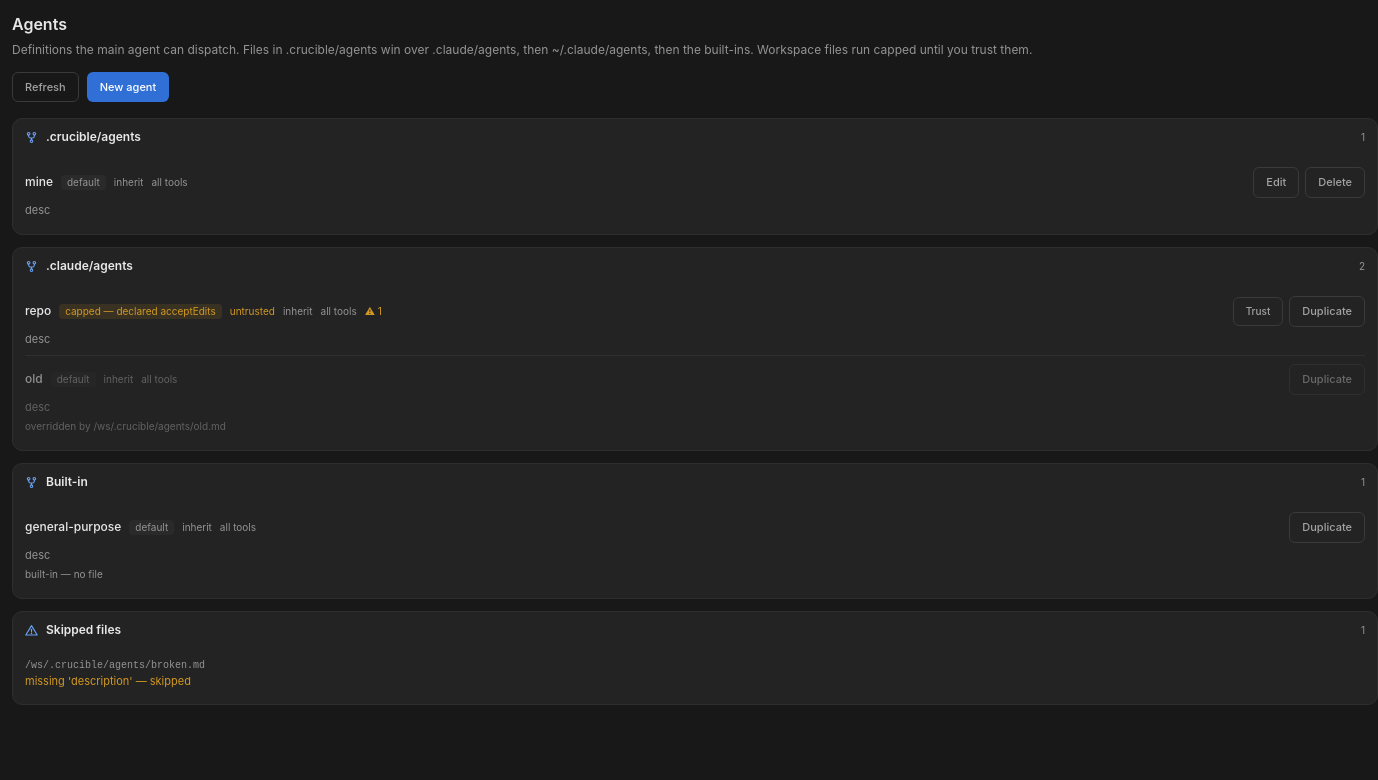
Test case: AgentsSection › expands warnings
Click the button named "1 warning on repo" at x=373, y=311, box [365,304,382,319]
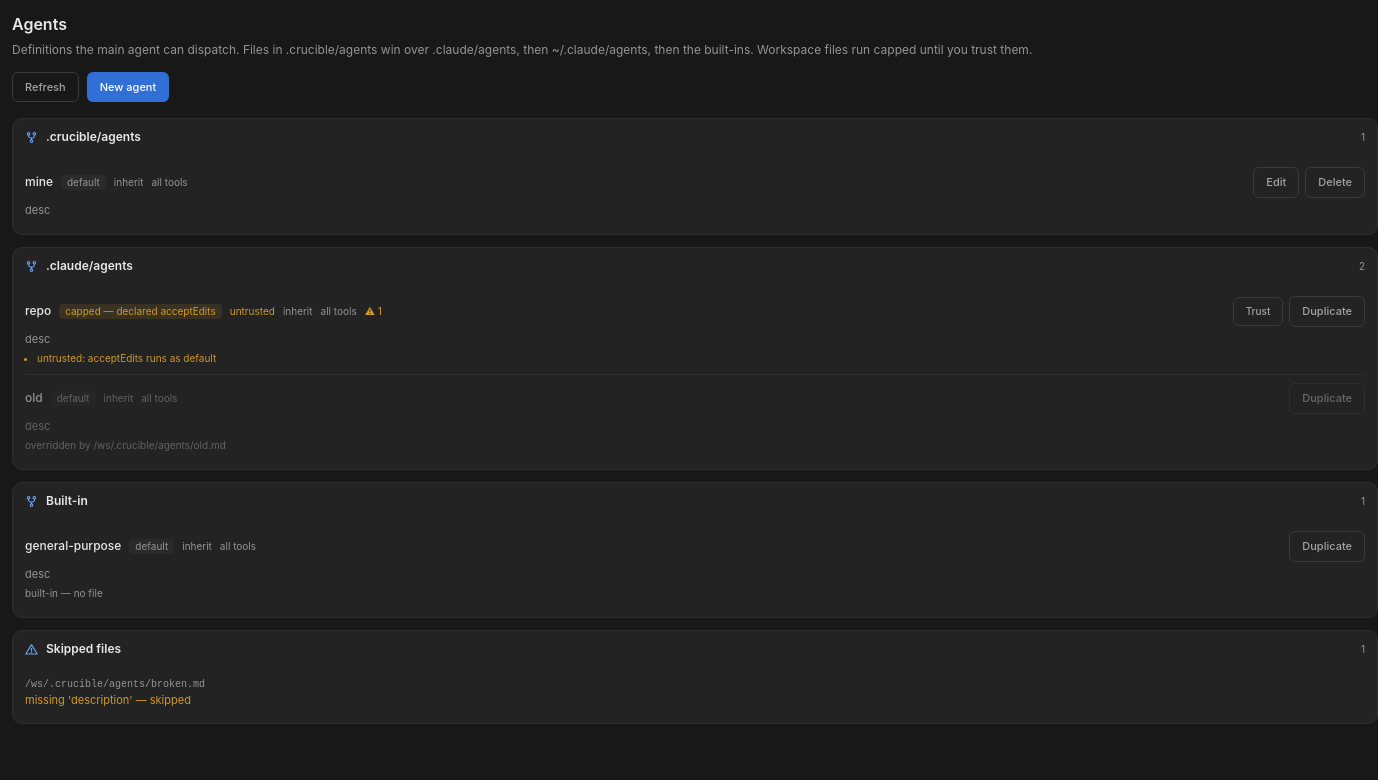
Expected: the list item "untrusted: acceptEdits runs as default" is shown, [37,352,216,364]
